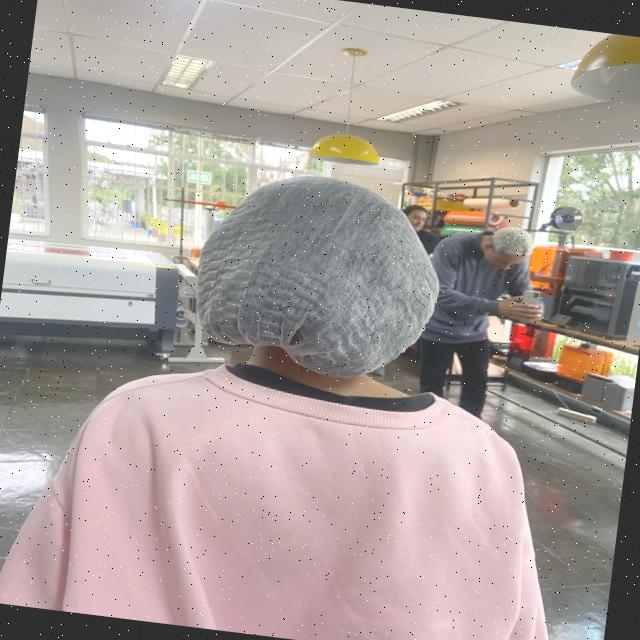SEM LUVA: (495, 294, 546, 324)
TOUCA: (191, 170, 450, 394)
